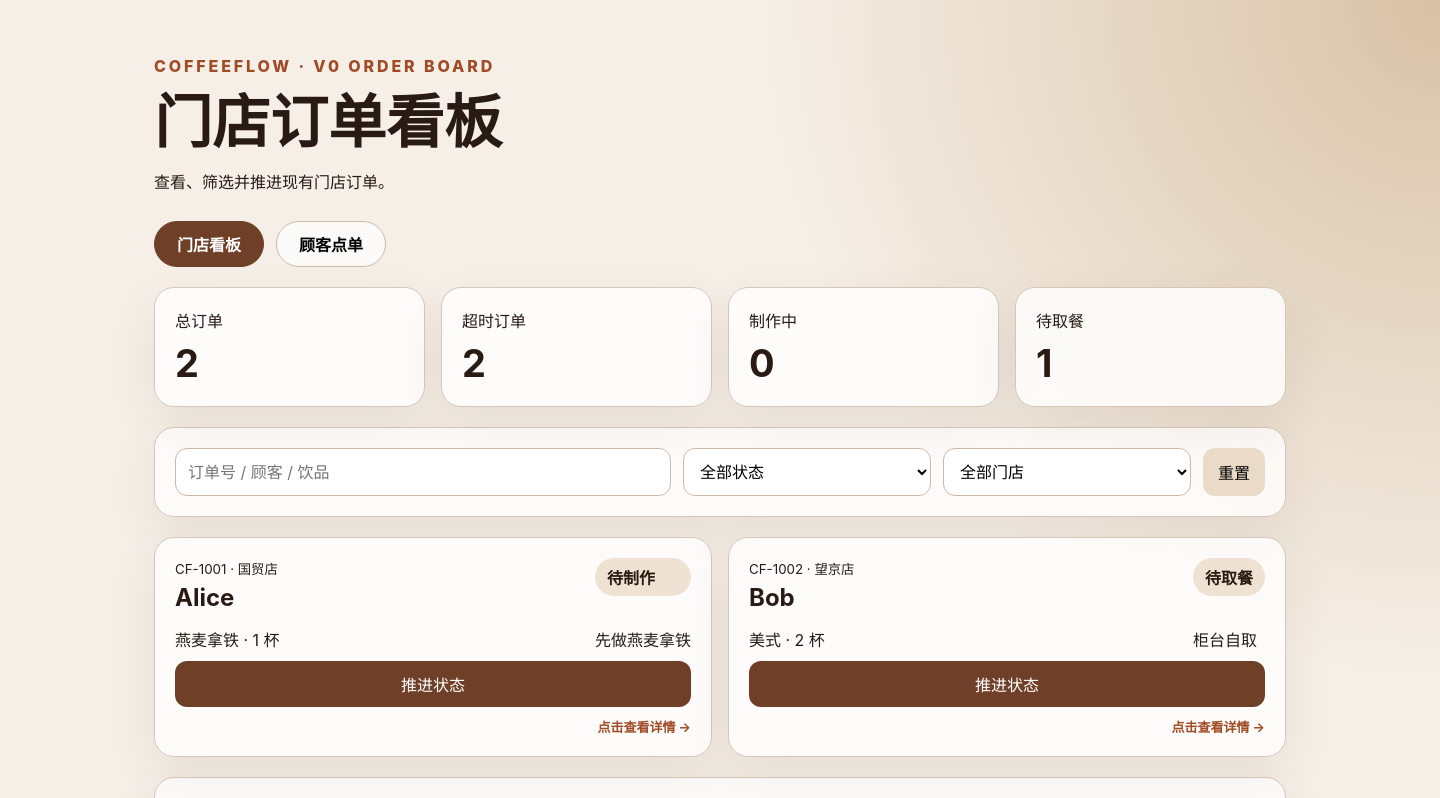
Test: CoffeeFlow V0 › 支持筛选和重置
Type "alice" into the field with test id "keyword-filter". click: (423, 472)
box: [175, 448, 671, 496]
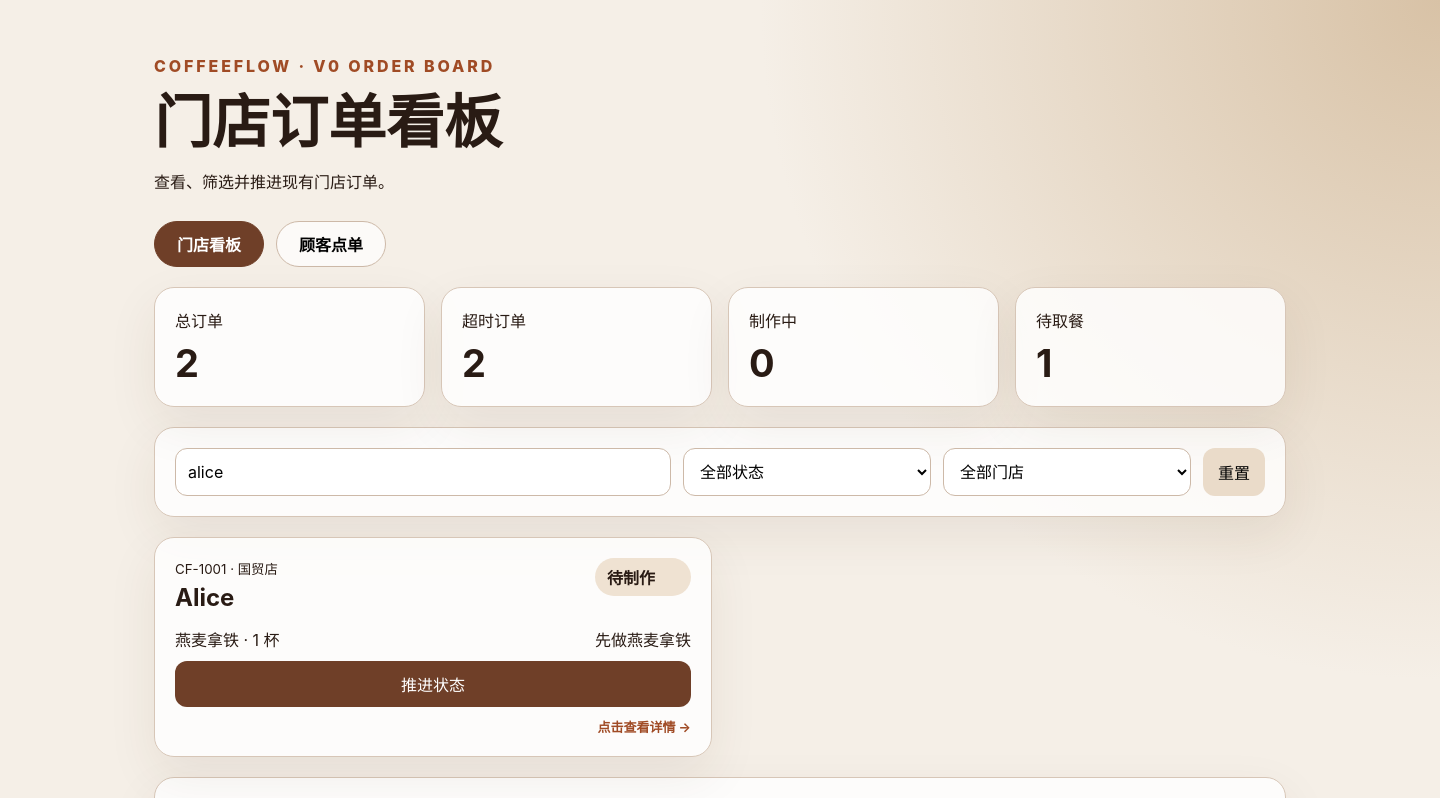
Check: the text "CF-1001" is shown, box [175, 561, 278, 577]
Check: the text "CF-1002" is gone
Select "待取餐" in the dropdown with test id "status-filter". click: (807, 472)
box: [683, 448, 931, 496]
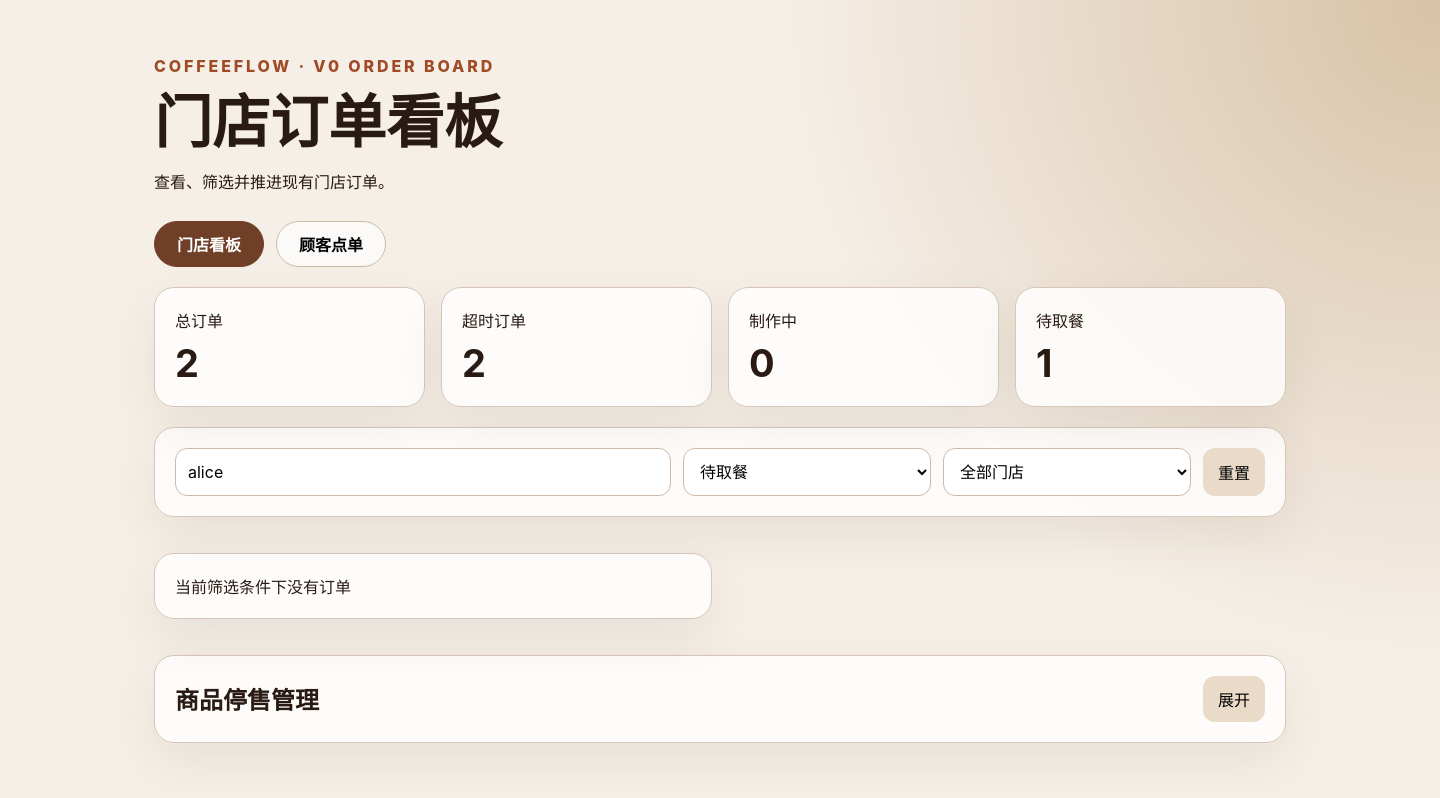
Check: the text "当前筛选条件下没有订单" is shown, box [154, 553, 712, 619]
Click the button with class "ghost" showing "重置". click: (1234, 472)
box: [1203, 448, 1265, 496]
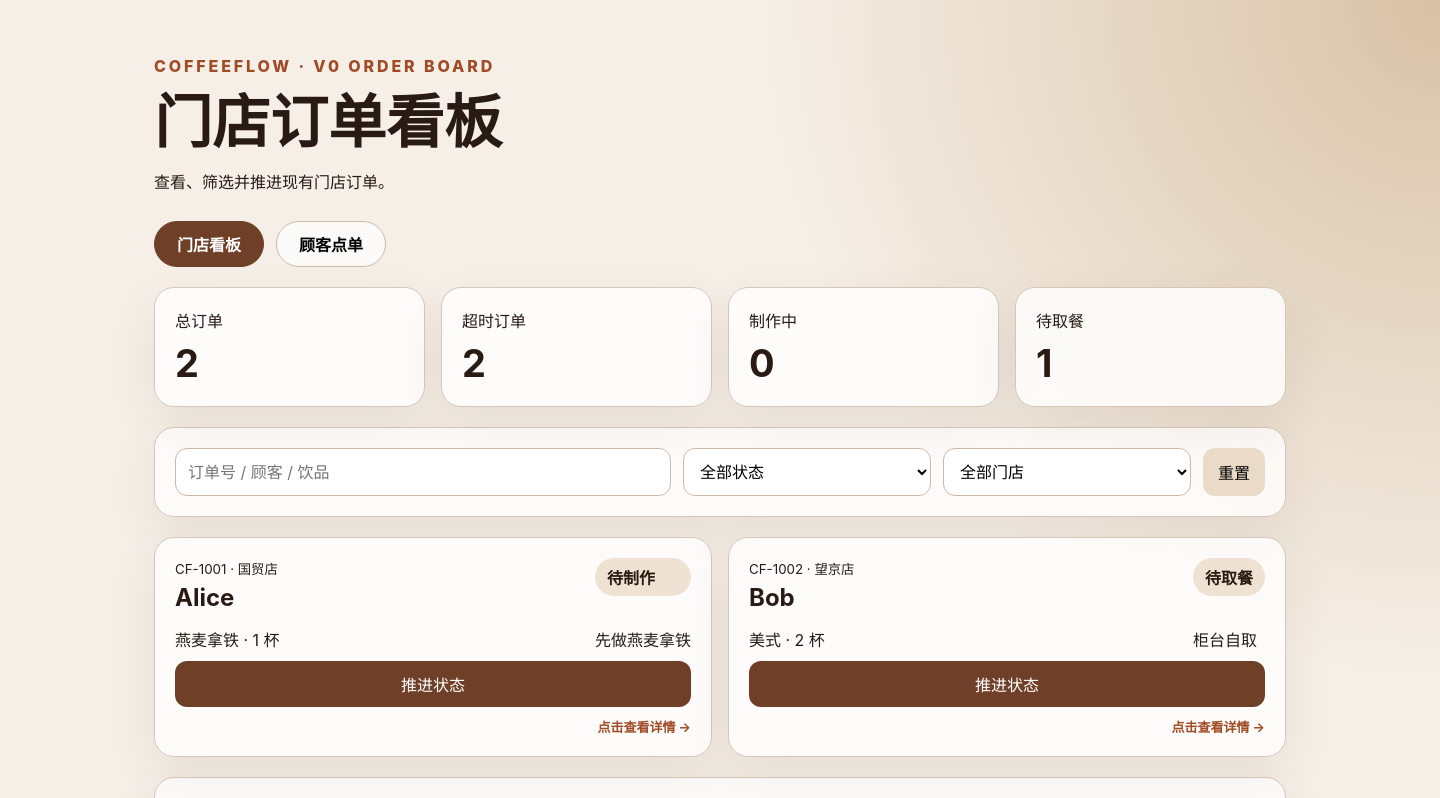
Check: the text "CF-1002" is shown, box [749, 561, 854, 577]
